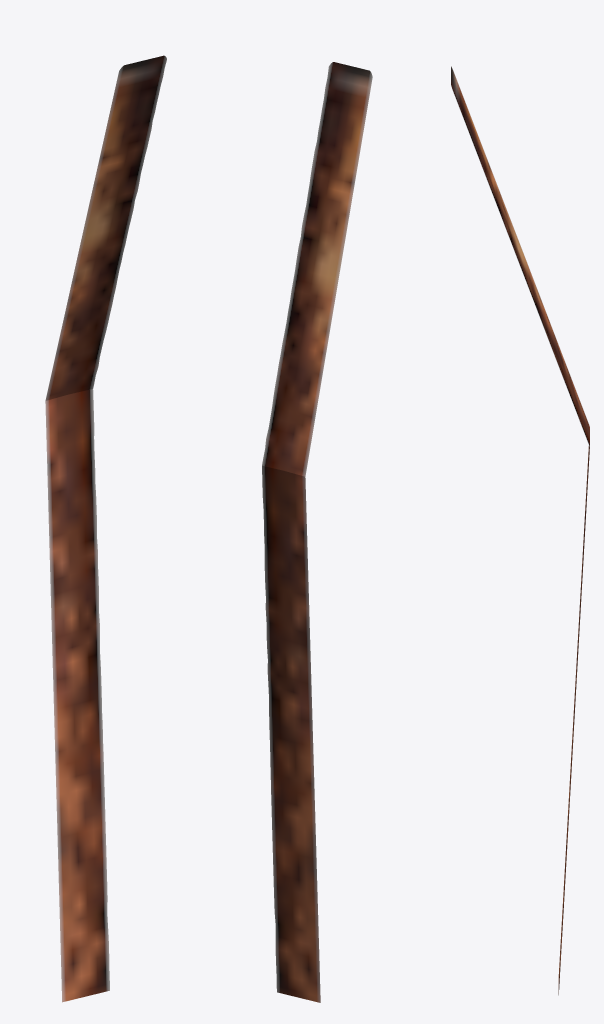
Rendered from Rusted_Pipe.fbx.
The picture shows the model from 3 angles, left to right: view 1: azimuth 30°, elevation 25°; view 2: azimuth 150°, elevation 25°; view 3: azimuth 270°, elevation 25°; orthographic projection. The views are drawn at different scales.
Visible parts, largest first — view 1: Plane.002; view 2: Plane.002; view 3: Plane.002.
Part boxes in pixels (<box>): Plane.002: <box>45,55,166,1002</box>; Plane.002: <box>262,62,372,1002</box>; Plane.002: <box>451,66,589,995</box>.
Bounding box in the file's own units: 11.92 × 106 × 15.51.
